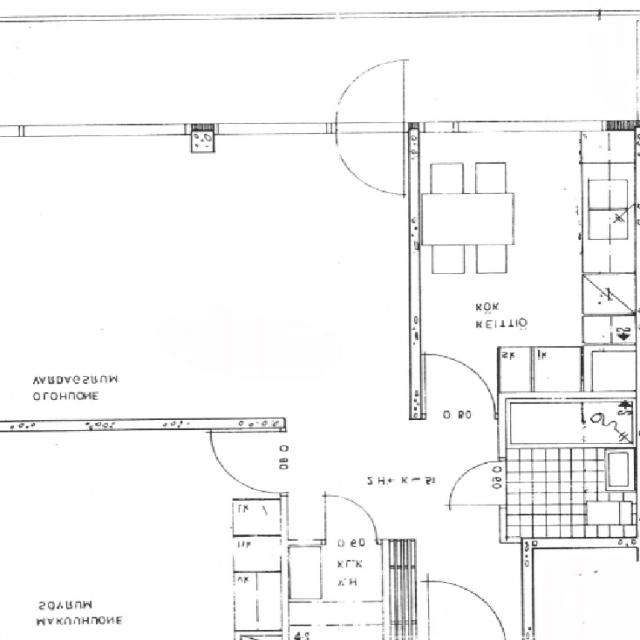door: (336, 120, 406, 192), (336, 59, 406, 130), (429, 581, 508, 640), (428, 356, 494, 422), (214, 435, 288, 493), (446, 458, 506, 506), (325, 493, 378, 546)
